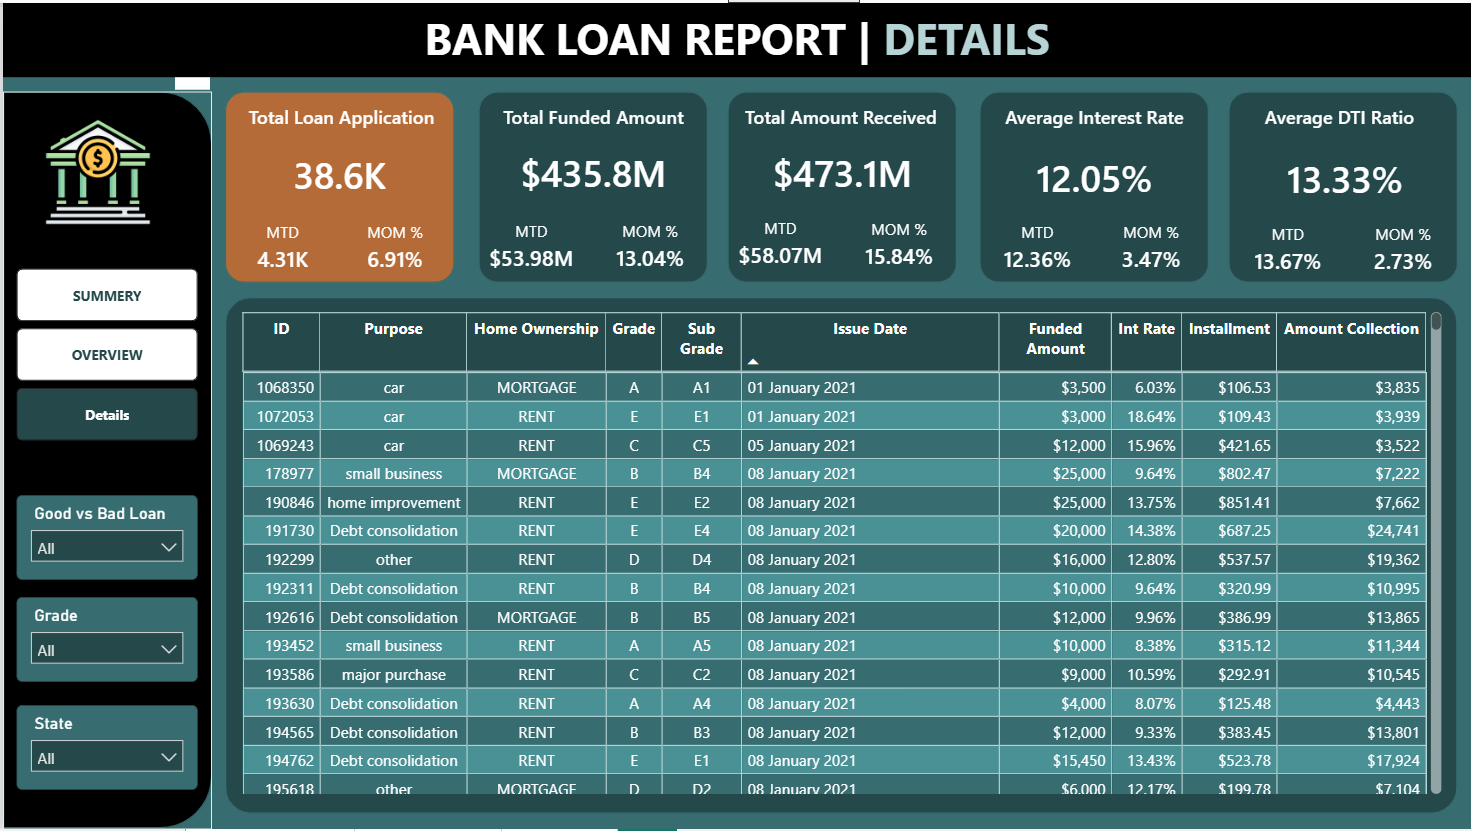

The page's visual inventory and layout, read from the dashboard file:
{"tool":"powerbi","page":{"name":"Details","canvas":[1280,720],"ordinal":2},"visuals":[{"type":"textbox","box":[0,0,1280,64.4],"z":0,"group":"g2"},{"type":"shape","box":[0,77.8,182.2,642.2],"z":1000},{"type":"cardVisual","fields":{"Data":["KPIs.Total Loan Application"]},"box":[193.3,116.7,200,62.2],"z":1000,"group":"g1"},{"type":"textbox","box":[203.3,82.2,182.2,34.4],"z":2000,"group":"g2"},{"type":"shape","box":[193.4,256,1074.3,450.4],"z":2000},{"type":"textbox","box":[423.3,82.2,182.2,34.4],"z":3000,"group":"g2"},{"type":"textbox","box":[640,82.2,182.2,34.4],"z":4000,"group":"g2"},{"type":"shape","box":[193.3,77.8,200,166.7],"z":5000},{"type":"textbox","box":[860,82.2,182.2,34.4],"z":5000,"group":"g2"},{"type":"shape","box":[414.4,77.8,200,166.7],"z":6000},{"type":"textbox","box":[1076.7,82.2,182.2,34.4],"z":6000,"group":"g2"},{"type":"shape","box":[631.1,77.8,200,166.7],"z":7000},{"type":"cardVisual","fields":{"Data":["KPIs.MTD Loan Application"]},"box":[194.4,182.3,98.9,62.2],"z":7000,"group":"g1"},{"type":"shape","box":[851.1,77.8,200,166.7],"z":8000},{"type":"cardVisual","fields":{"Data":["KPIs.MOM % Loan Application"]},"box":[293.3,182.3,98.9,62.2],"z":8000,"group":"g1"},{"type":"shape","box":[1067.8,77.8,200,166.7],"z":9000},{"type":"cardVisual","fields":{"Data":["KPIs.Total Funded Amount"]},"box":[414.3,115.7,200,62.2],"z":9000,"group":"g1"},{"type":"cardVisual","fields":{"Data":["KPIs.MTD Funded Amount"]},"box":[406,181,108,62],"z":10000,"group":"g1"},{"type":"cardVisual","fields":{"Data":["KPIs.MOM % Funded Amount"]},"box":[514.3,181.3,98.9,62.2],"z":11000,"group":"g1"},{"type":"cardVisual","fields":{"Data":["KPIs.Total Amount Received"]},"box":[631,116,200,62],"z":13000,"group":"g1"},{"type":"cardVisual","fields":{"Data":["KPIs.MTD Amount Received"]},"box":[624,179,108,62],"z":14000,"group":"g1"},{"type":"cardVisual","fields":{"Data":["KPIs.MOM % Received Amount"]},"box":[732.3,179.3,98.9,62.2],"z":15000,"group":"g1"},{"type":"cardVisual","fields":{"Data":["KPIs.Average Int Rate"]},"box":[851,119,200,62],"z":16000,"group":"g1"},{"type":"cardVisual","fields":{"Data":["KPIs.MTD Int Rate"]},"box":[851,182,101,62],"z":17000,"group":"g1"},{"type":"cardVisual","fields":{"Data":["KPIs.MOM % Int rate"]},"box":[952.3,182.3,98.9,62.2],"z":18000,"group":"g1"},{"type":"cardVisual","fields":{"Data":["KPIs.Average DTI"]},"box":[1069.5,121,200,62],"z":19000,"group":"g1"},{"type":"cardVisual","fields":{"Data":["KPIs.MTD DTI"]},"box":[1069.5,184,101,62],"z":20000,"group":"g1"},{"type":"cardVisual","fields":{"Data":["KPIs.MOM % DTI"]},"box":[1170.9,184.2,98.9,62.2],"z":21000,"group":"g1"},{"type":"image","box":[27.7,98.9,110.9,96.1],"z":29000},{"type":"slicer","fields":{"Values":["financial_loan.Good vs Bad Loan"]},"box":[12,428.8,158,73.9],"z":30000},{"type":"slicer","fields":{"Values":["financial_loan.grade"]},"box":[12,517.5,158,73.9],"z":31000},{"type":"slicer","fields":{"Values":["financial_loan.address_state"]},"box":[12,611.8,158,73.9],"z":32000},{"type":"tableEx","fields":{"Values":["financial_loan.id","financial_loan.purpose","financial_loan.home_ownership","financial_loan.grade","financial_loan.sub_grade","financial_loan.issue_date","KPIs.Total Funded Amount","KPIs.Average Int Rate","Sum(financial_loan.installment)","Sum(financial_loan.total_payment)"]},"box":[203,264,1056,430],"z":32001},{"type":"actionButton","box":[0,0,100,40],"z":32002},{"type":"group","id":"g1","title":"Group 1","box":[193.3,115.7,1076.4,130.7],"z":32003},{"type":"group","id":"g2","title":"Group 2","box":[0,0,1280,116.7],"z":32004},{"type":"pageNavigator","box":[12,231,158,150],"z":32005}]}

Visuals, with their boxes in screenshot pixels (x1, y1, x2, y2), scaled from the page's 1280x720 canvas onto the 1471x831 screenshot:
textbox: BBox(0, 0, 1470, 74)
shape: BBox(0, 90, 209, 830)
cardVisual - KPIs.Total Loan Application: BBox(222, 135, 452, 206)
textbox: BBox(234, 95, 443, 135)
shape: BBox(222, 295, 1457, 815)
textbox: BBox(486, 95, 696, 135)
textbox: BBox(736, 95, 945, 135)
shape: BBox(222, 90, 452, 282)
textbox: BBox(988, 95, 1198, 135)
shape: BBox(476, 90, 706, 282)
textbox: BBox(1237, 95, 1447, 135)
shape: BBox(725, 90, 955, 282)
cardVisual - KPIs.MTD Loan Application: BBox(223, 210, 337, 282)
shape: BBox(978, 90, 1208, 282)
cardVisual - KPIs.MOM % Loan Application: BBox(337, 210, 451, 282)
shape: BBox(1227, 90, 1457, 282)
cardVisual - KPIs.Total Funded Amount: BBox(476, 134, 706, 205)
cardVisual - KPIs.MTD Funded Amount: BBox(467, 209, 591, 280)
cardVisual - KPIs.MOM % Funded Amount: BBox(591, 209, 705, 281)
cardVisual - KPIs.Total Amount Received: BBox(725, 134, 955, 205)
cardVisual - KPIs.MTD Amount Received: BBox(717, 207, 841, 278)
cardVisual - KPIs.MOM % Received Amount: BBox(842, 207, 955, 279)
cardVisual - KPIs.Average Int Rate: BBox(978, 137, 1208, 209)
cardVisual - KPIs.MTD Int Rate: BBox(978, 210, 1094, 282)
cardVisual - KPIs.MOM % Int rate: BBox(1094, 210, 1208, 282)
cardVisual - KPIs.Average DTI: BBox(1229, 140, 1459, 211)
cardVisual - KPIs.MTD DTI: BBox(1229, 212, 1345, 284)
cardVisual - KPIs.MOM % DTI: BBox(1346, 213, 1459, 284)
image: BBox(32, 114, 159, 225)
slicer - financial_loan.Good vs Bad Loan: BBox(14, 495, 195, 580)
slicer - financial_loan.grade: BBox(14, 597, 195, 683)
slicer - financial_loan.address_state: BBox(14, 706, 195, 791)
tableEx - financial_loan.id x financial_loan.purpose: BBox(233, 305, 1447, 801)
actionButton: BBox(0, 0, 115, 46)
"Group 1" group: BBox(222, 134, 1459, 284)
"Group 2" group: BBox(0, 0, 1470, 135)
pageNavigator: BBox(14, 267, 195, 440)
